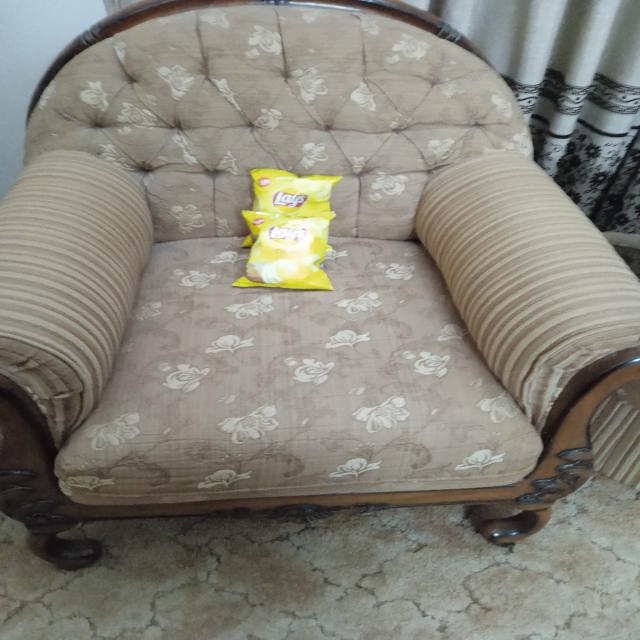Plastic: (244, 209, 330, 294), (252, 166, 338, 214)
